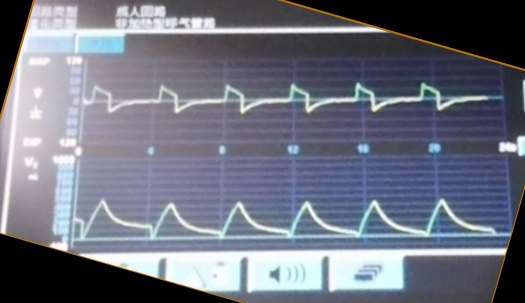Flow: (85, 72, 493, 141)
Leakage Volume: (74, 172, 501, 247)
